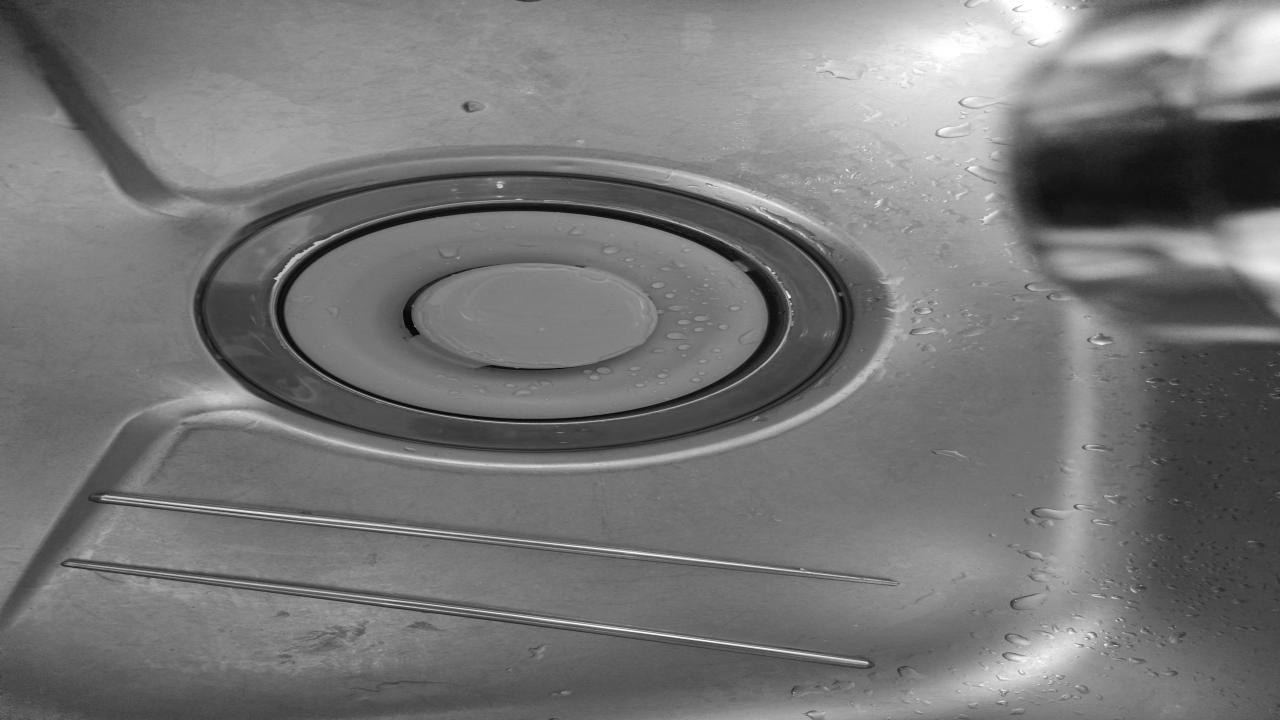chopstick: (61, 559, 875, 668), (91, 492, 903, 588)
